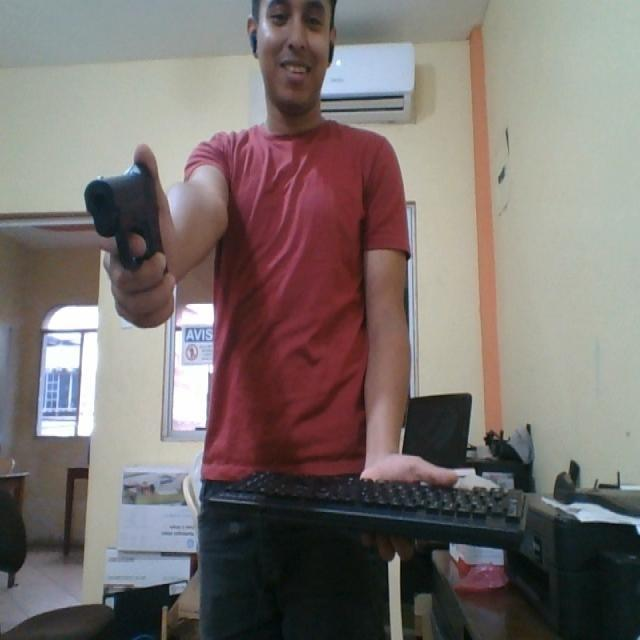weapon: (82, 157, 168, 276)
